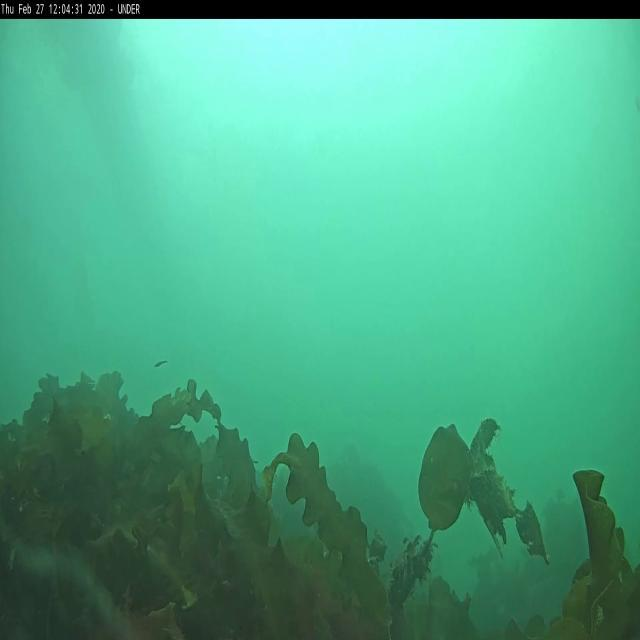fish: (155, 356, 167, 368)
